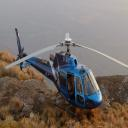helicopter: (5, 27, 128, 124)
